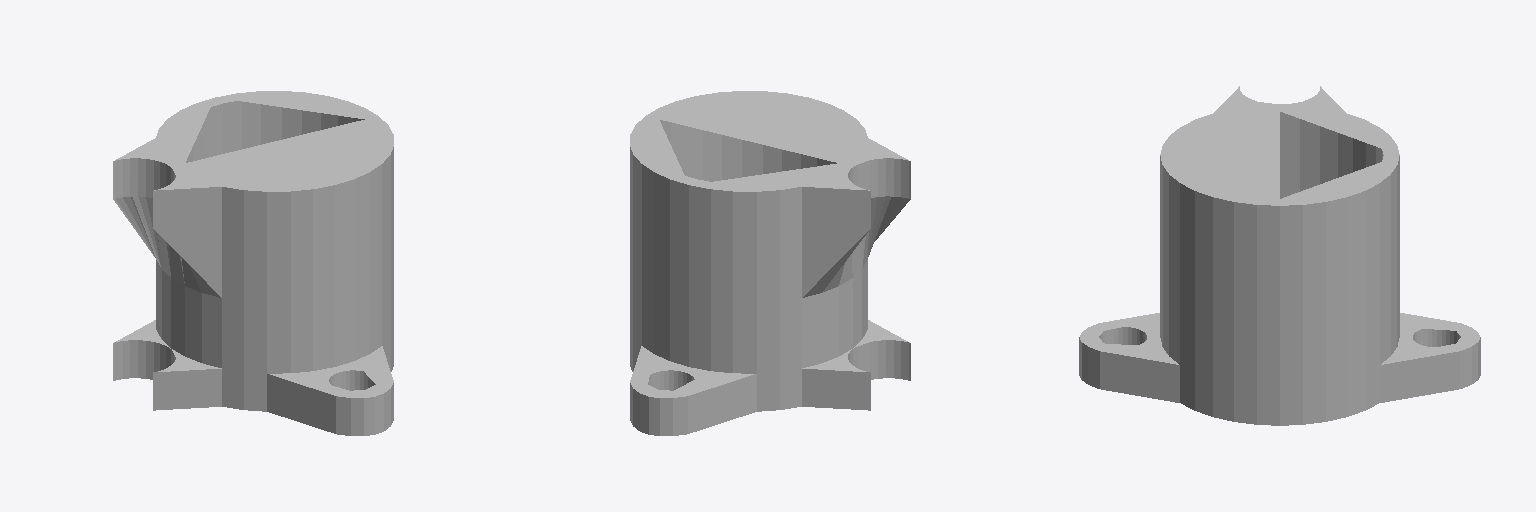
File: Boolean_XLR_Halterung.obj
The picture shows the model from 3 angles: view 1: azimuth 30°, elevation 25°; view 2: azimuth 150°, elevation 25°; view 3: azimuth 270°, elevation 25°; orthographic projection.
Visible parts, largest first — view 1: Cylinder_Cylinder.010; view 2: Cylinder_Cylinder.010; view 3: Cylinder_Cylinder.010.
Boxes of the visible parts, box(x1,y1,x2,y2) form: Cylinder_Cylinder.010: box(113, 91, 393, 435); Cylinder_Cylinder.010: box(630, 91, 910, 435); Cylinder_Cylinder.010: box(1079, 86, 1480, 425).
Size of the model in its own units: 0.0175 by 0.015 by 0.0248.